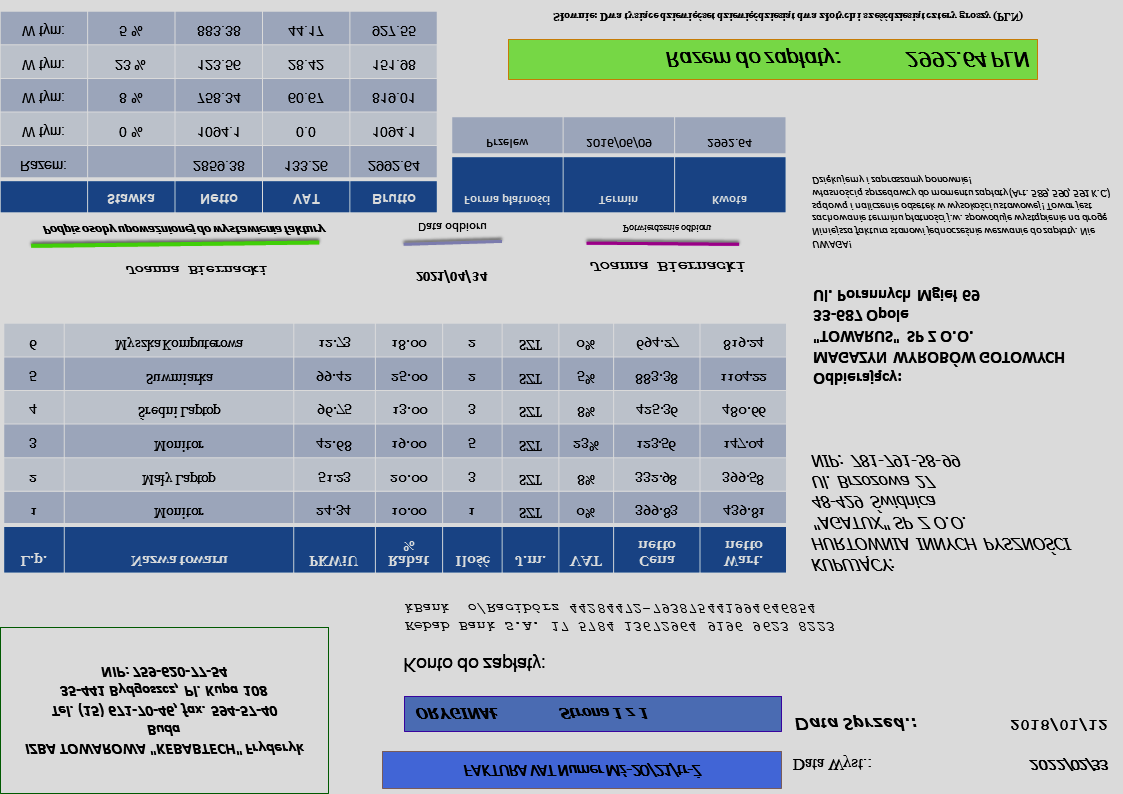Table: (2, 323, 787, 574), (1, 11, 439, 214), (451, 116, 786, 213)
TextBox: (808, 451, 1073, 576), (23, 662, 307, 758), (811, 284, 1067, 388), (810, 173, 1113, 253), (403, 599, 838, 635), (663, 45, 1031, 71), (550, 8, 1025, 25), (461, 760, 704, 780), (40, 222, 325, 239), (413, 705, 652, 724), (401, 651, 548, 676), (793, 712, 917, 735), (587, 258, 746, 275), (124, 262, 268, 278), (1007, 716, 1110, 735), (1025, 756, 1112, 774), (790, 755, 872, 774), (413, 266, 489, 286), (621, 222, 713, 235), (415, 220, 487, 234)
